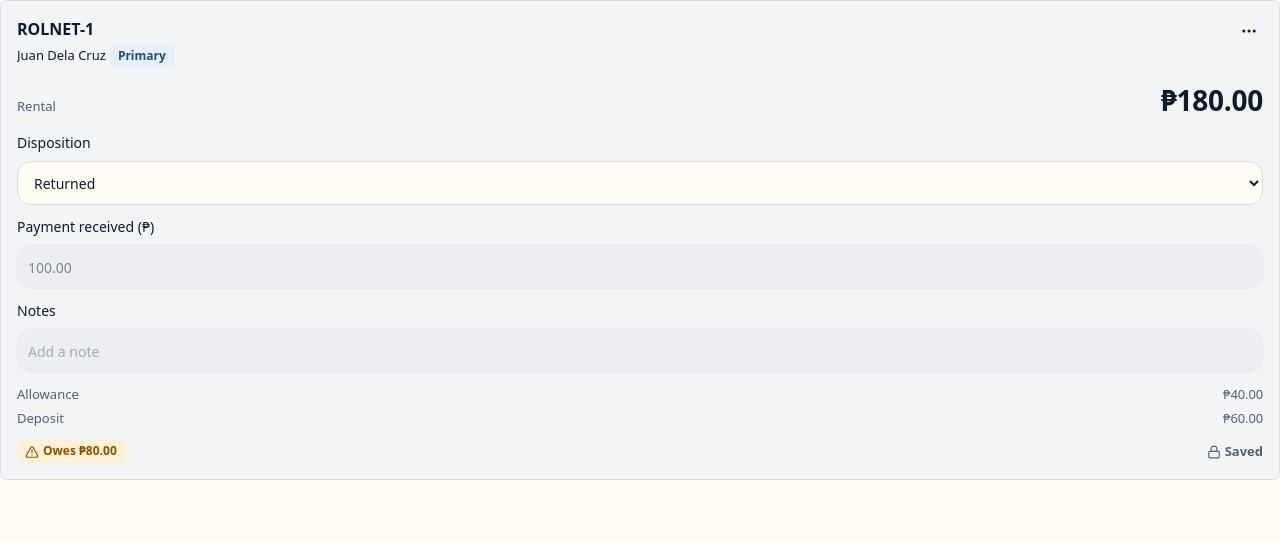
Scenario: DailyCard: Rental, Allowance and Deposit (feature 009, User Story 1) › shows the saved figures on a locked card, and a live deposit once editing
Check: the element showing "₱40.00" is shown, box [1223, 385, 1263, 403]
Check: the element showing "₱60.00" is shown, box [1223, 409, 1263, 427]
Click the button named "Card options" at (1249, 31), box [1227, 9, 1271, 53]
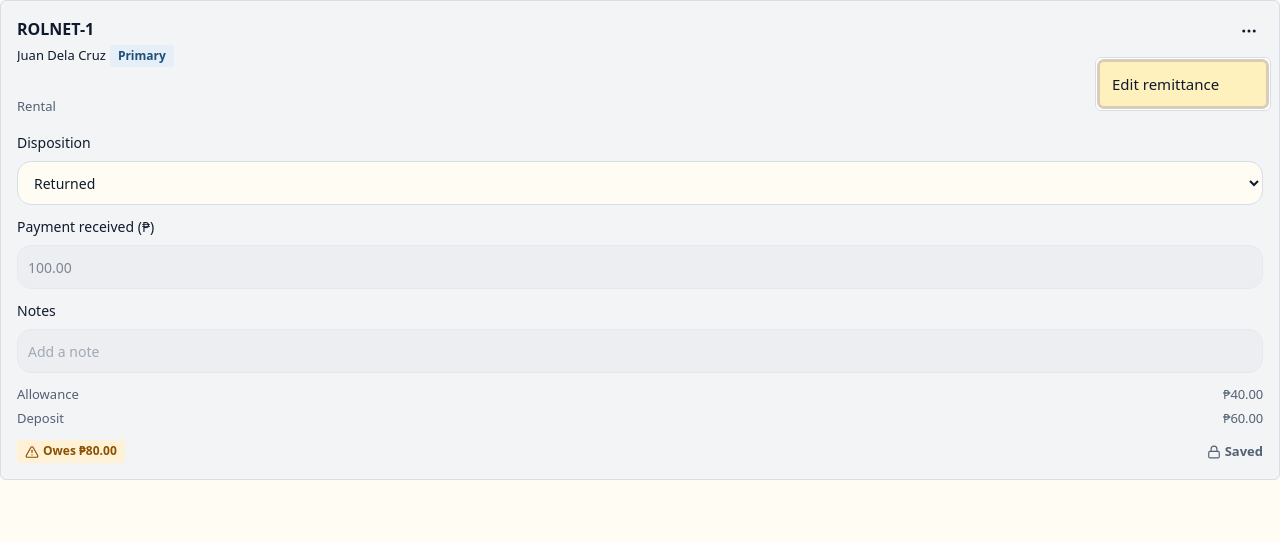
Click the menu item "Edit remittance" at (1183, 84), box [1100, 62, 1266, 106]
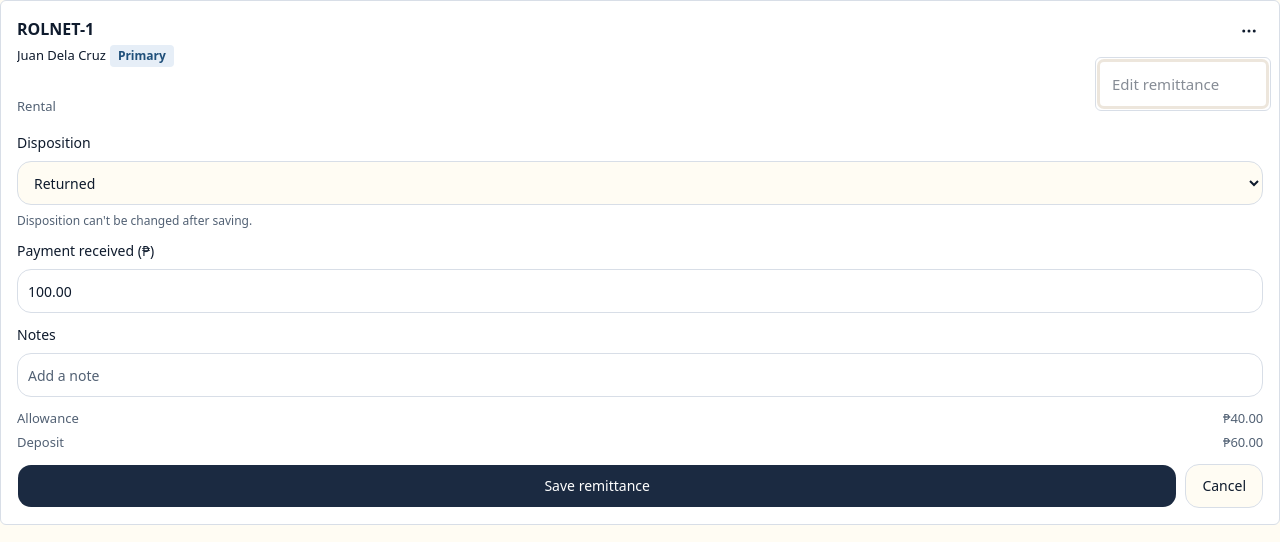
Replace the text in the field labelled "Payment received (₱)" with "180" at (640, 291), box [17, 269, 1263, 313]
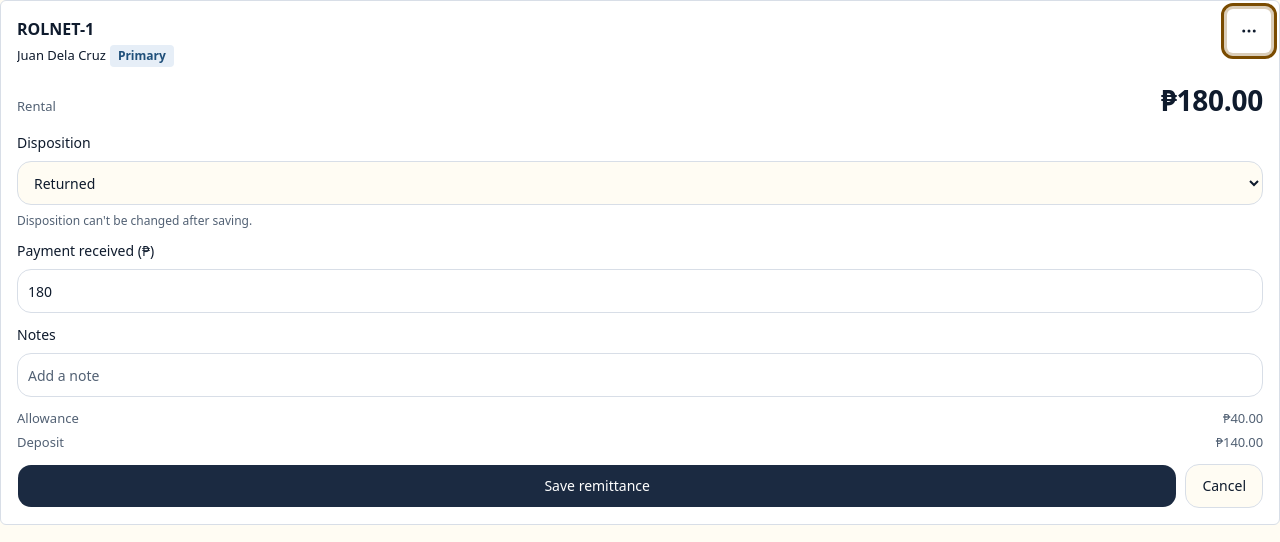
Check: the element showing "₱140.00" is shown, box [1216, 433, 1263, 451]
